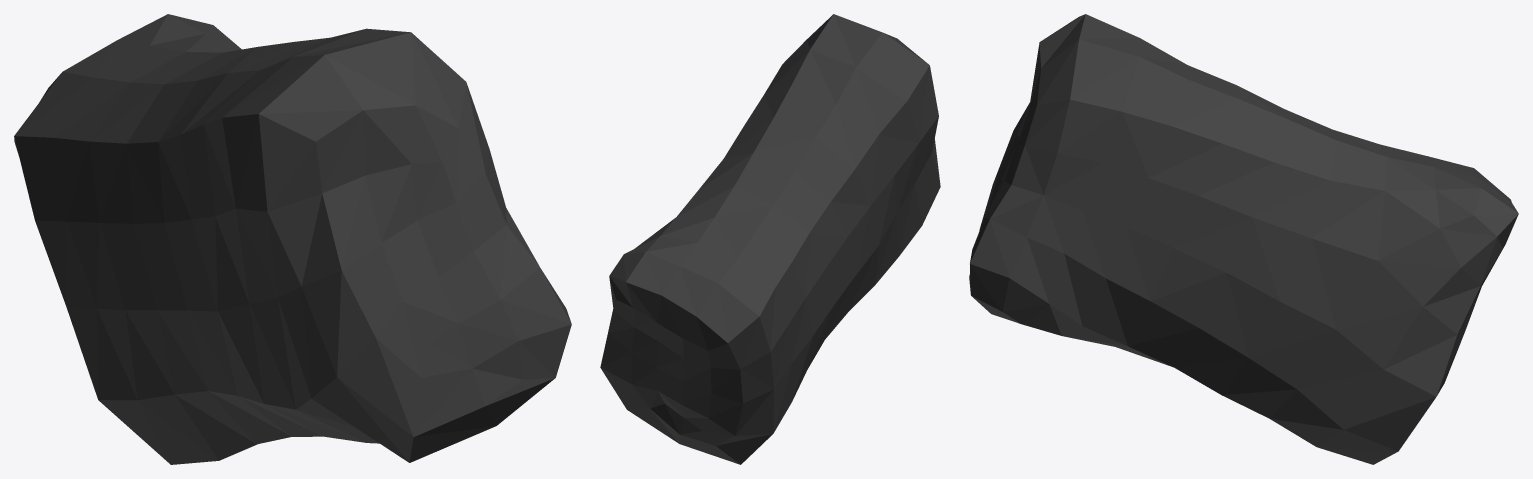
The picture shows the model from 3 angles, left to right: view 1: azimuth 30°, elevation 25°; view 2: azimuth 150°, elevation 25°; view 3: azimuth 270°, elevation 25°; orthographic projection. The views are drawn at different scales.
Parts seen in each view (by area): view 1: SB_4; view 2: SB_4; view 3: SB_4.
Boxes of the visible parts, left/top/right/bottom form: SB_4: left=14, top=14, right=571, bottom=464; SB_4: left=600, top=14, right=940, bottom=464; SB_4: left=969, top=14, right=1518, bottom=464.
Bounding box in the file's own units: 0.6616 × 1.25 × 1.48.
1 material, 1 textured.
